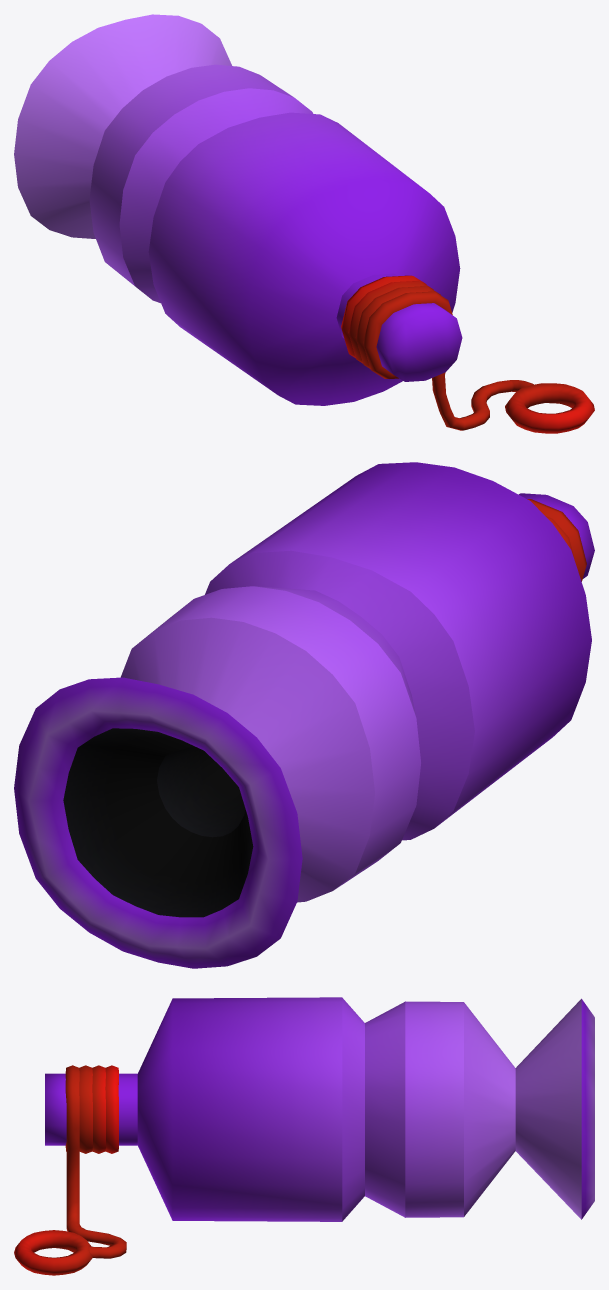
File: GrappleCannon.fbx
3 renders of one model, top to bottom at view 1: azimuth 30°, elevation 25°; view 2: azimuth 150°, elevation 25°; view 3: azimuth 270°, elevation 25°, orthographic. The views are drawn at different scales.
Visible parts, largest first — view 1: GrappleCannonBody, GrappleCannonTag; view 2: GrappleCannonBody, GrappleCannonTag; view 3: GrappleCannonBody, GrappleCannonTag.
Boxes of the visible parts, bbox=[...] form: GrappleCannonBody: bbox=[14, 14, 462, 405]; GrappleCannonTag: bbox=[341, 275, 594, 433]; GrappleCannonBody: bbox=[14, 462, 594, 968]; GrappleCannonTag: bbox=[527, 499, 586, 581]; GrappleCannonBody: bbox=[45, 997, 594, 1221]; GrappleCannonTag: bbox=[14, 1065, 126, 1275].
Bounding box in the file's own units: 0.4464 × 0.3281 × 0.8965.
